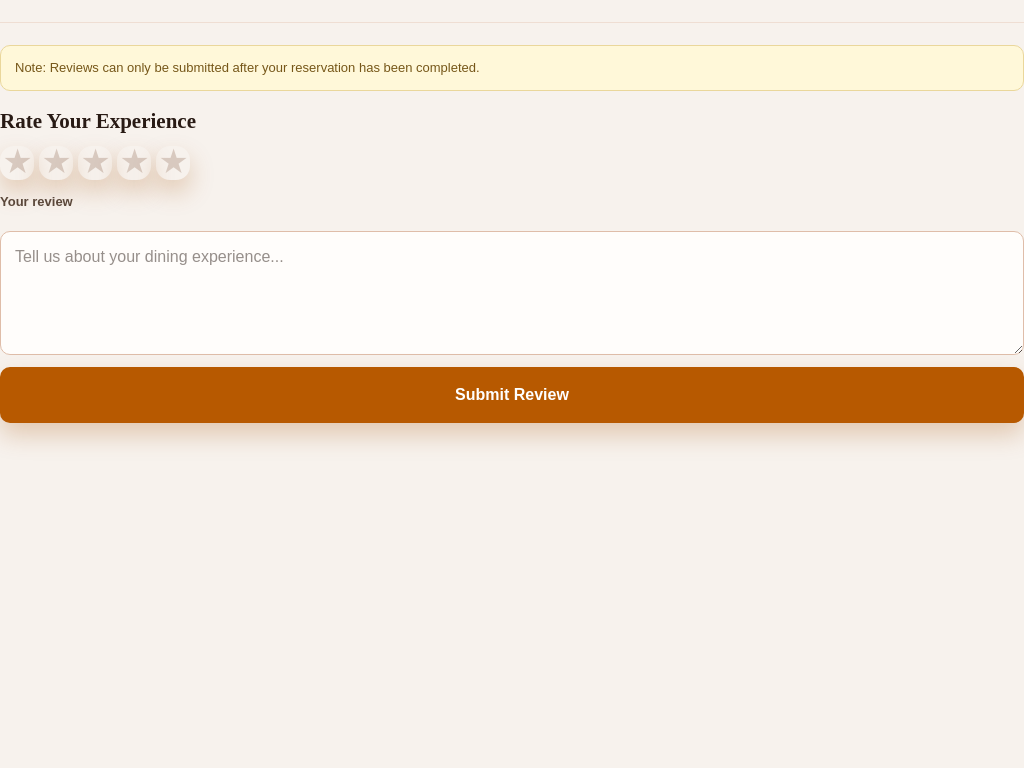
Test case: keeps the review form unchanged when confirmation is declined
The width and height of the screenshot is (1024, 768).
Click the button named "Rate 3 stars" at (95, 162), box [78,146,112,180]
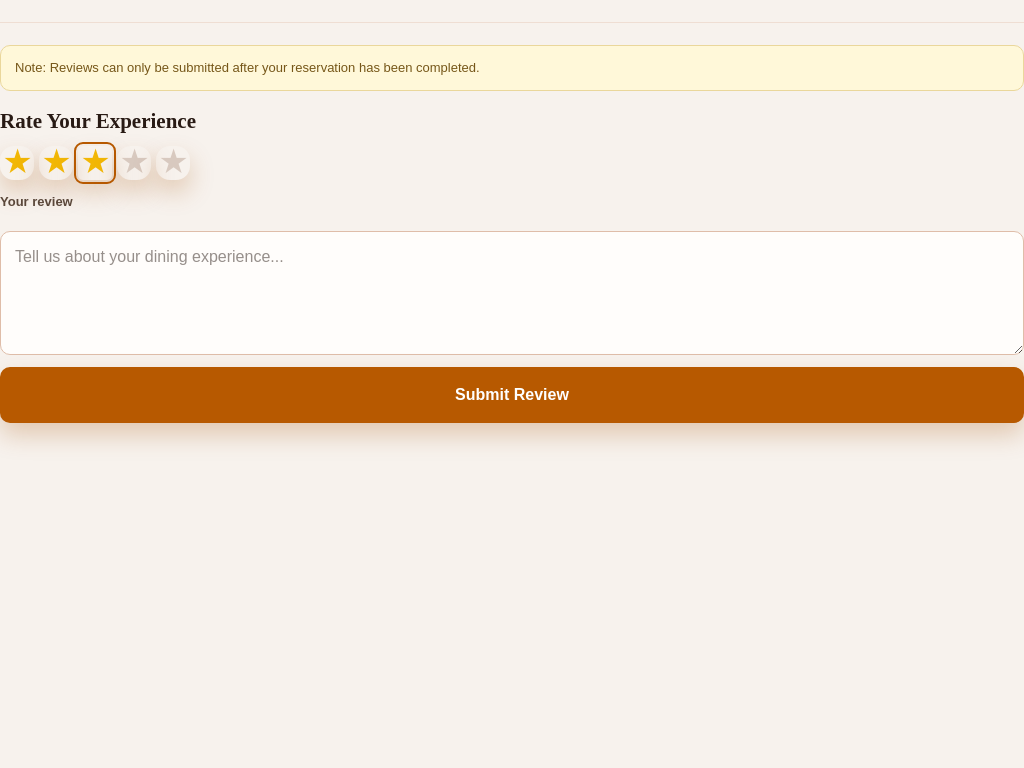
Type "A good experience." into the text box labelled "Your review" at (512, 293), box [0,231,1023,355]
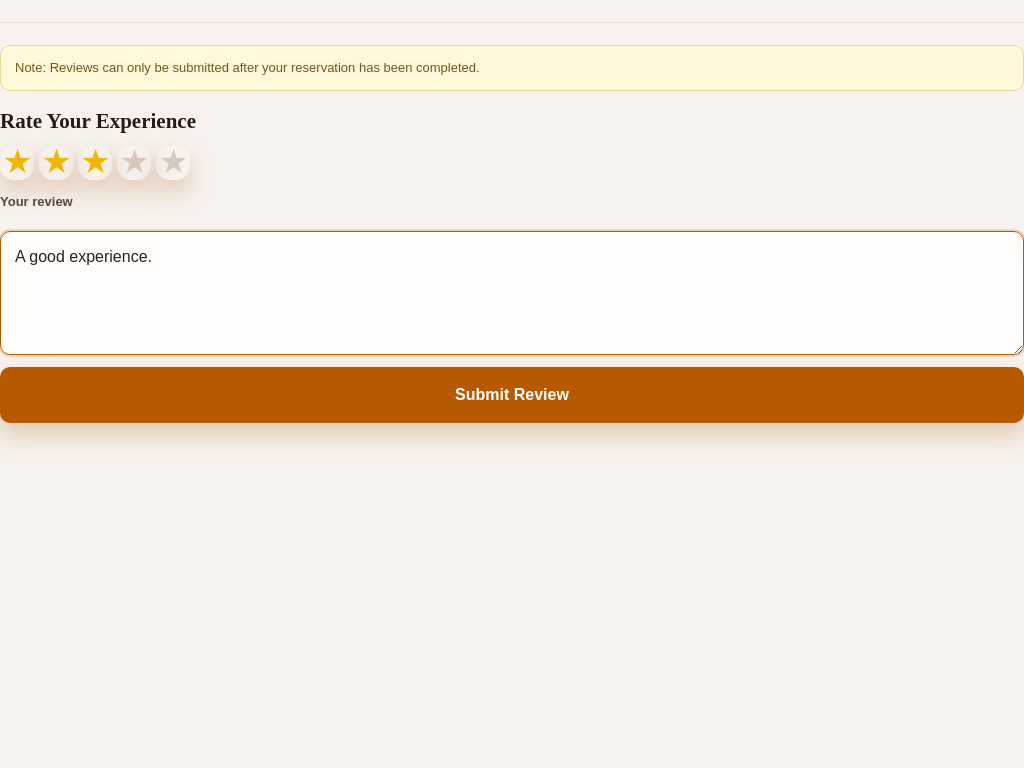
Click the button "Submit Review" at (512, 395), box [0,367,1023,423]
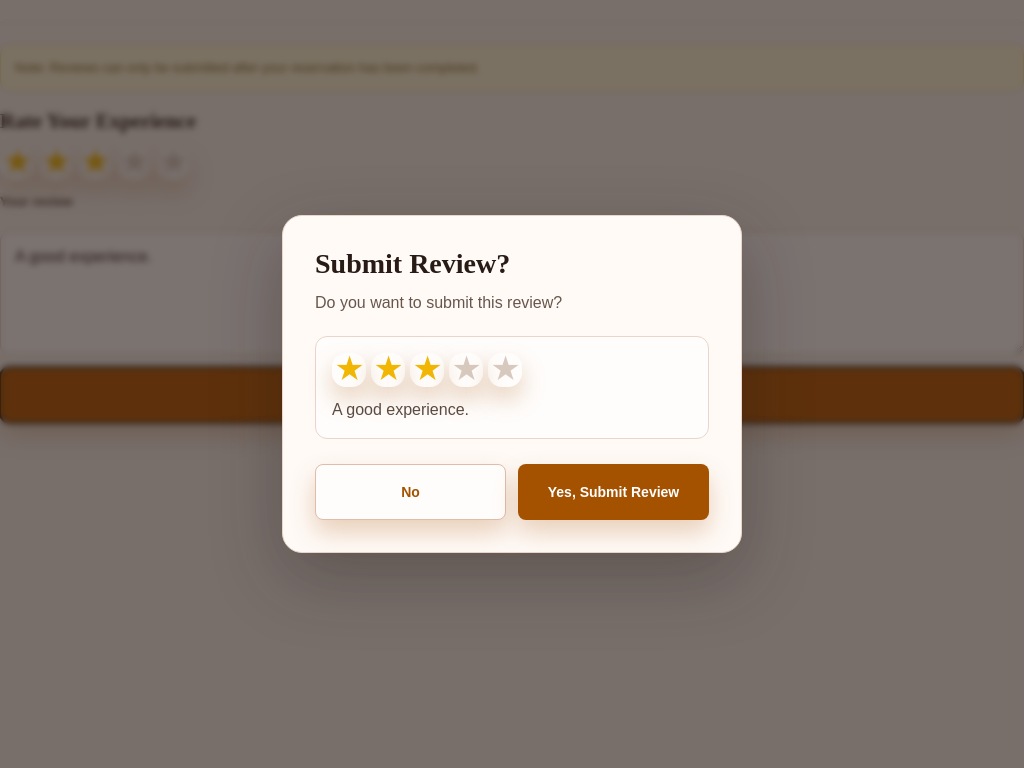
Click the button "No" at (410, 492), box [315,464,506,520]
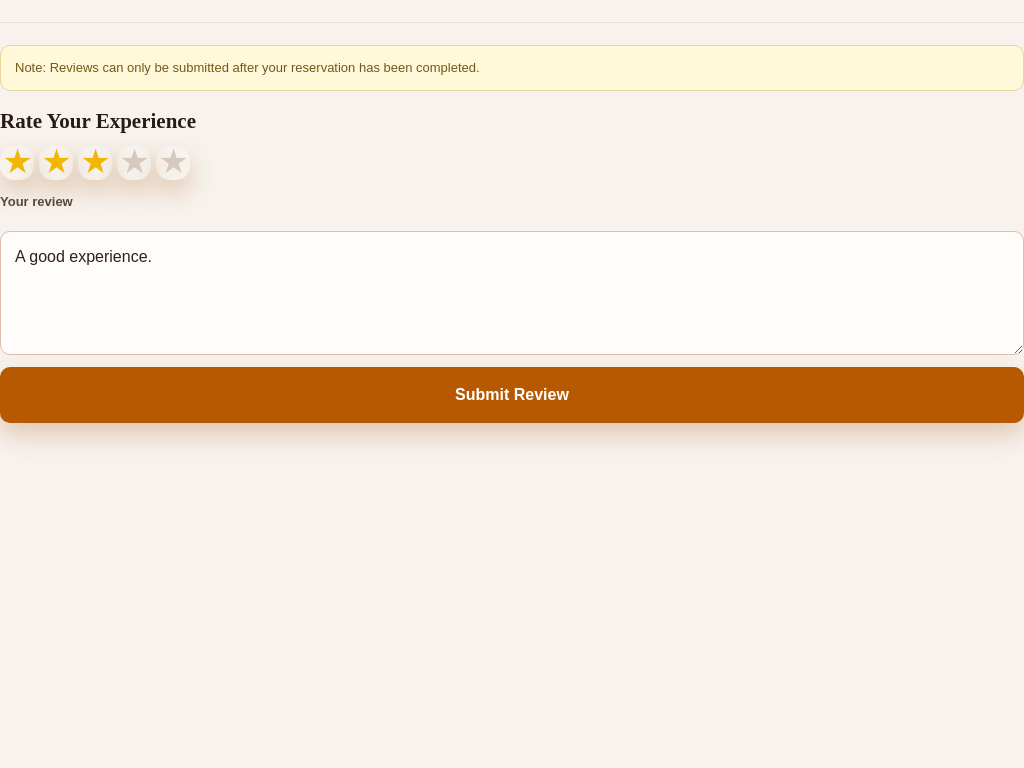
Result: the dialog is gone
